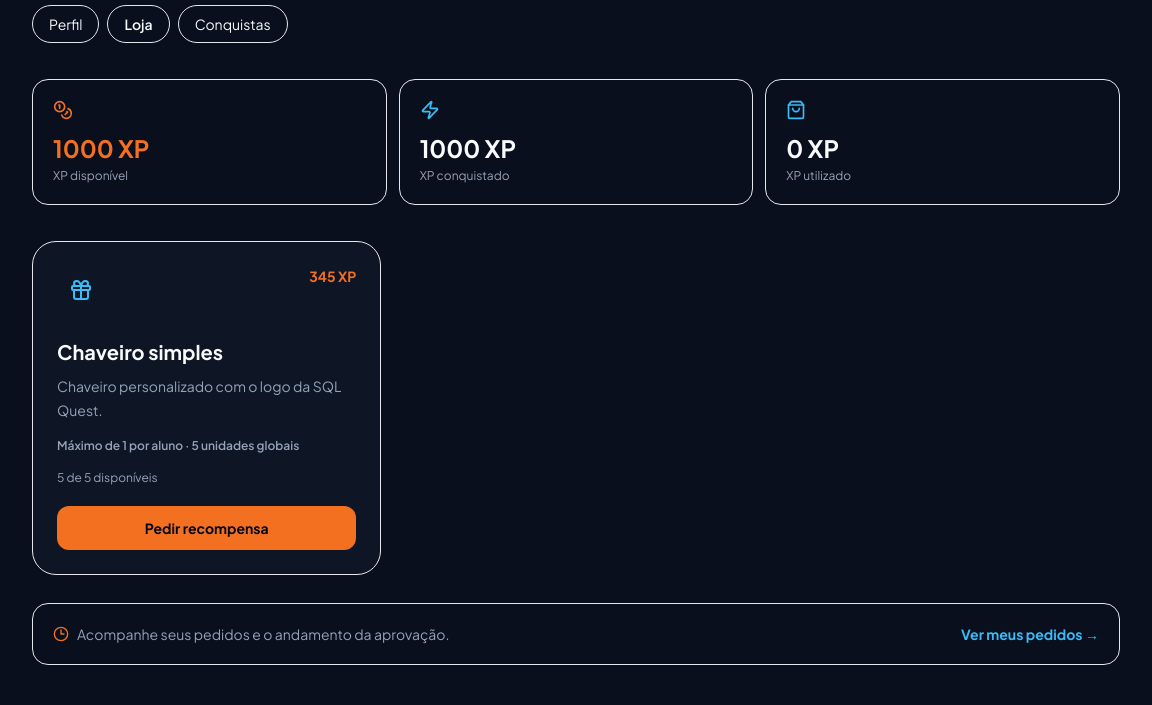
Scenario: RewardsStoreClient — aviso do formulário de pedido › informa que o XP só é debitado na aprovação e que o pedido reserva a disponibilidade
The width and height of the screenshot is (1152, 705).
(page scrolled)
Click the button "Pedir recompensa": (207, 528) x1=57 y1=506 x2=356 y2=550
(page scrolled)
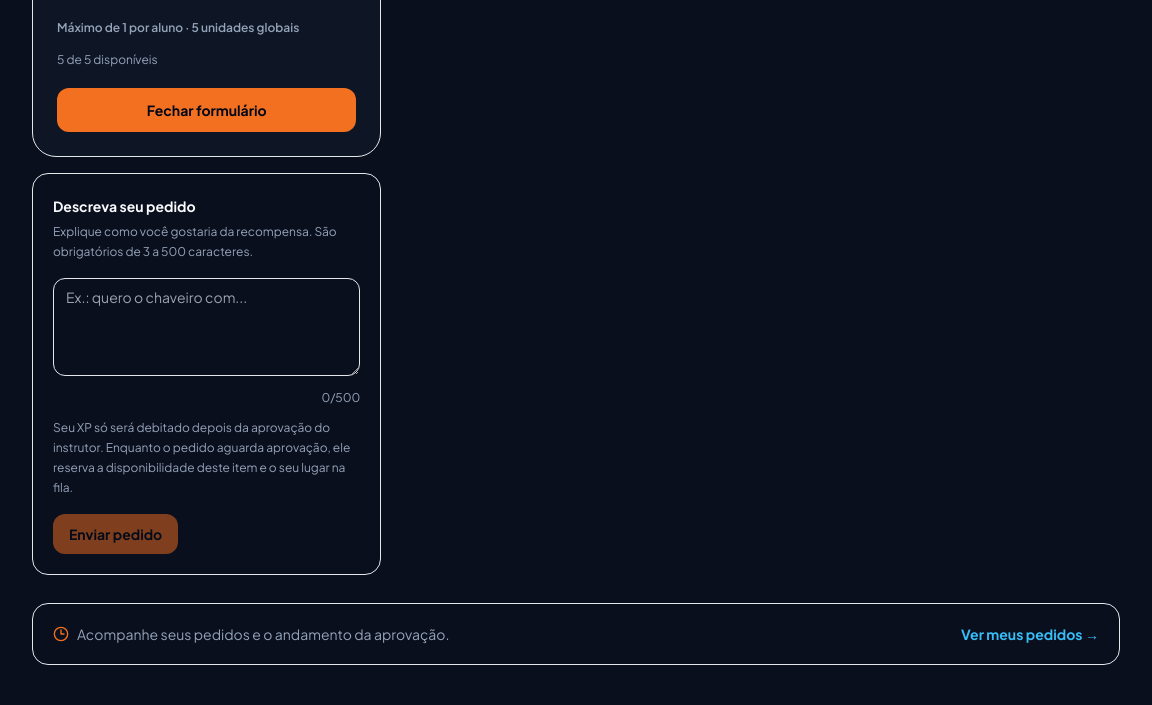
Expected: the text "reserva a disponibilidade deste item" is shown, x1=53 y1=420 x2=350 y2=495
